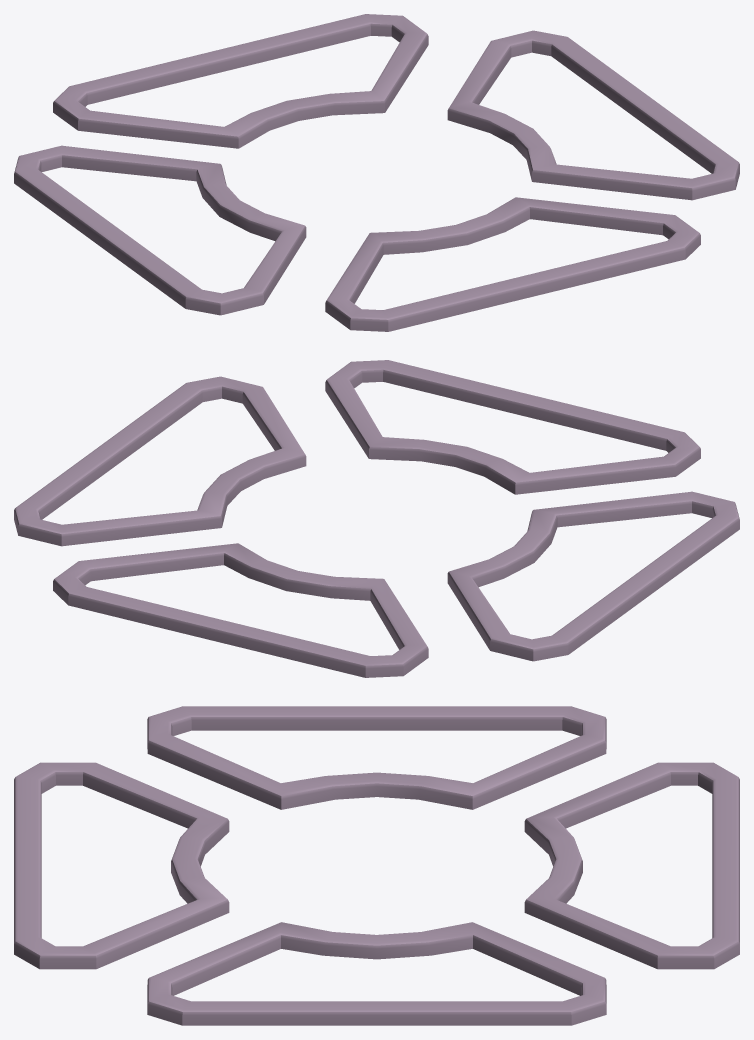
Rendered from courtyard_flowerbeds.fbx.
The picture shows the model from 3 angles, top to bottom: view 1: azimuth 30°, elevation 25°; view 2: azimuth 150°, elevation 25°; view 3: azimuth 270°, elevation 25°; orthographic projection. The views are drawn at different scales.
Visible parts, largest first — view 1: pCube5, pCube3, pCube2, pCube4; view 2: pCube3, pCube5, pCube2, pCube4; view 3: pCube2, pCube4, pCube3, pCube5.
Boxes of the visible parts, bbox=[...] form: pCube5: bbox=[53, 14, 428, 148]; pCube3: bbox=[325, 197, 700, 331]; pCube2: bbox=[14, 145, 306, 315]; pCube4: bbox=[447, 30, 739, 200]; pCube3: bbox=[325, 360, 700, 494]; pCube5: bbox=[53, 543, 428, 677]; pCube2: bbox=[447, 491, 739, 661]; pCube4: bbox=[14, 376, 306, 546]; pCube2: bbox=[147, 706, 606, 809]; pCube4: bbox=[147, 922, 606, 1025]; pCube3: bbox=[14, 762, 229, 969]; pCube5: bbox=[524, 762, 739, 969].
Size of the model in its own units: 18.44 by 0.4 by 18.44.
